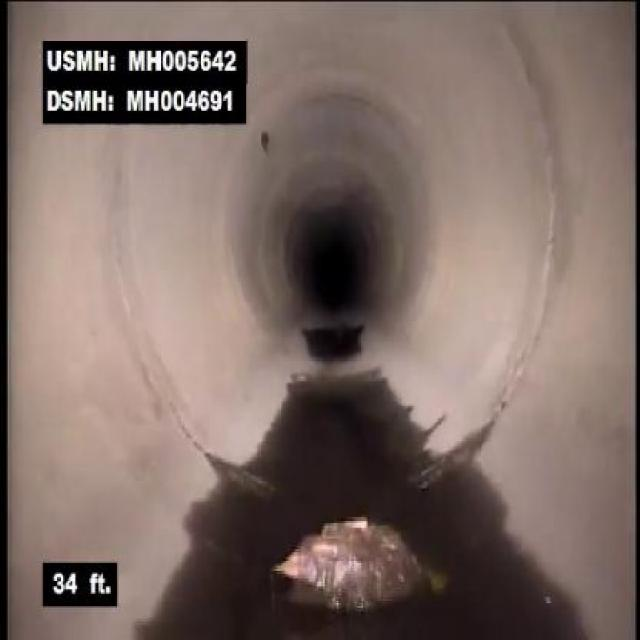Debris: (269, 495, 429, 623)
